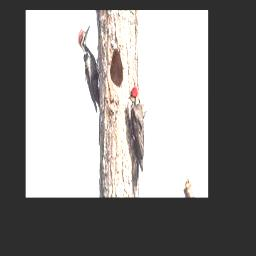Woodpecker: (77, 23, 100, 113), (128, 86, 145, 197)
